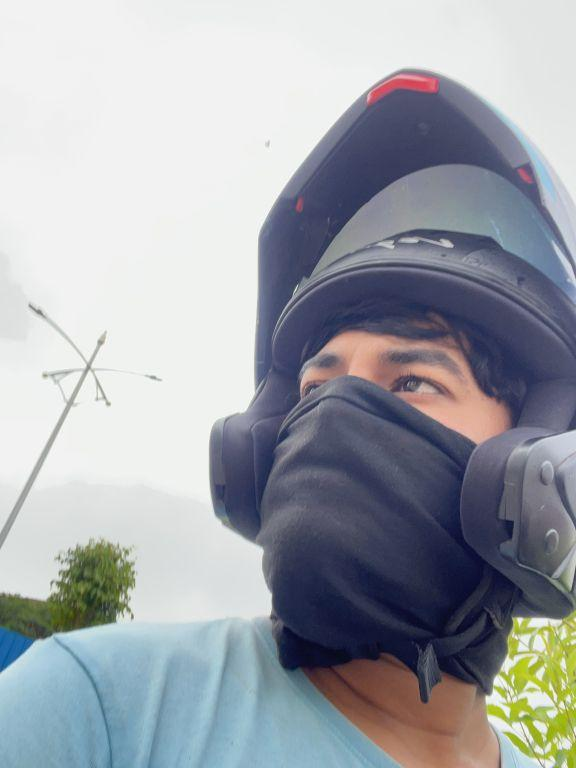helmet: (199, 57, 576, 666)
